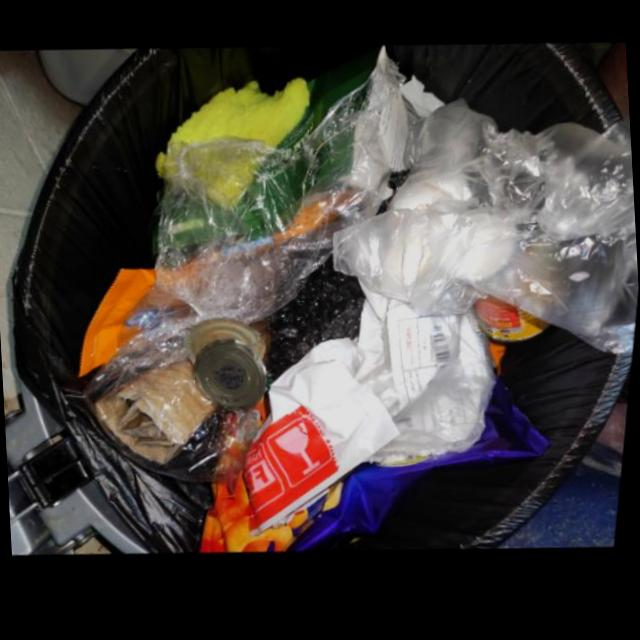bao_bi_thuc_pham: (206, 402, 348, 555), (81, 269, 198, 379)
nhom: (187, 321, 270, 411), (473, 278, 554, 349)
tui_ni_long: (90, 53, 409, 392), (386, 101, 640, 363), (248, 341, 405, 539), (360, 286, 499, 470), (334, 214, 493, 321)
